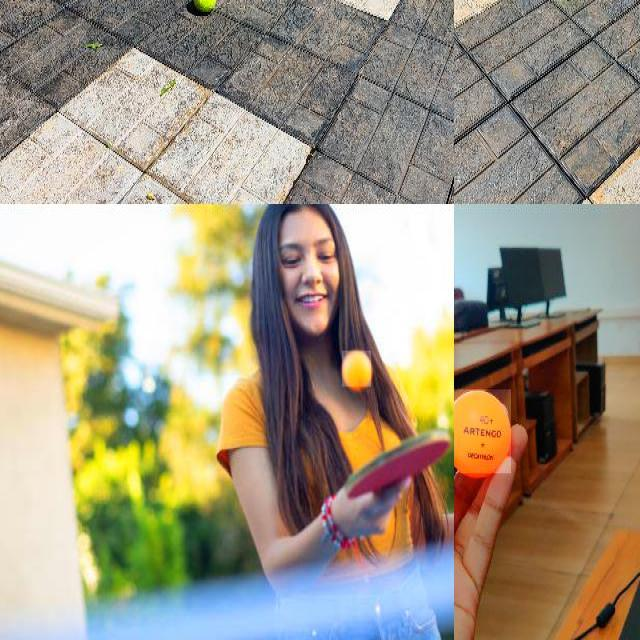ping-pong-ball: (454, 389, 513, 476), (342, 351, 372, 388)
